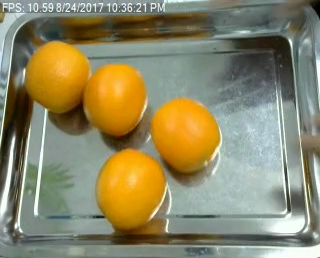Orange: (97, 149, 167, 229), (152, 97, 222, 173), (24, 40, 90, 113), (83, 63, 147, 137)
